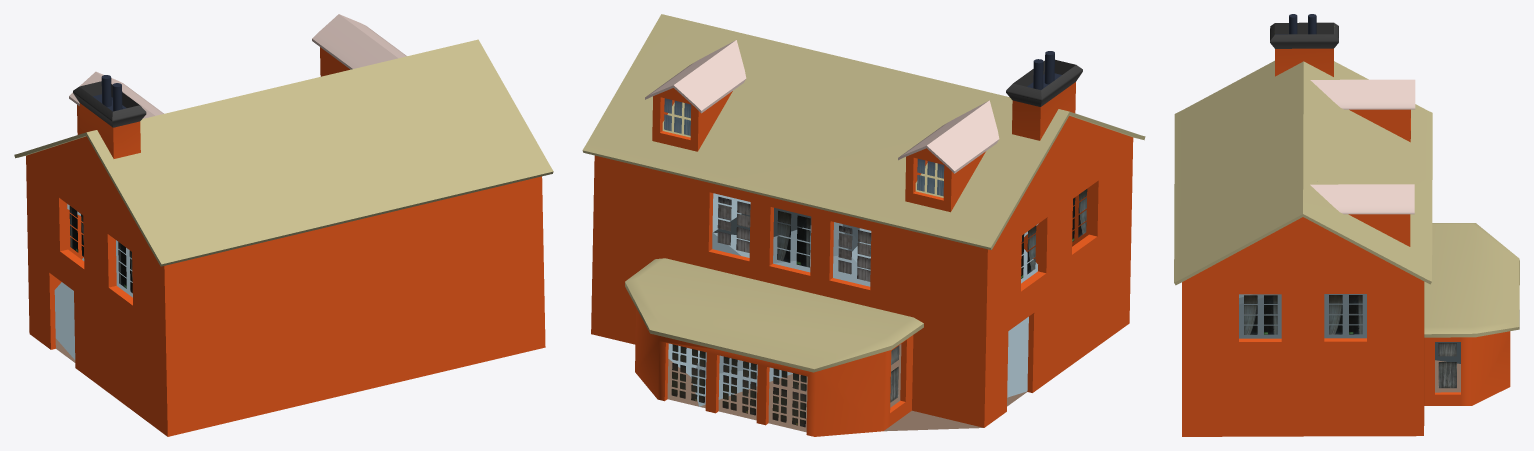
File: HouseCRoot.fbx
3 renders of one model, left to right at view 1: azimuth 30°, elevation 25°; view 2: azimuth 150°, elevation 25°; view 3: azimuth 270°, elevation 25°, orthographic. The views are drawn at different scales.
Parts seen in each view (by area): view 1: Body_sh_2, Body_sh_5, Body_sh_6, Body_sh_1, Body_sh_3, Body_sh_7, Body_sh_13, Body_sh_15, Body_sh_4, Body_sh_14; view 2: Body_sh_5, Body_sh_8, Body_sh_3, Body_sh_4, Body_sh_10, Body_sh_7, Body_sh_9, Body_sh_1, Body_sh_14, Body_sh_13, Body_sh_15, Body_sh_2 (+1 smaller); view 3: Body_sh_1, Body_sh_2, Body_sh_8, Body_sh_6, Body_sh_7, Body_sh_3, Body_sh_10, Body_sh_14, Body_sh_13, Body_sh_15, Body_sh_4, Body_sh_9.
Boxes of the visible parts, box(x1,y1,x2,y2) form: Body_sh_2: box(284, 39, 553, 348); Body_sh_5: box(26, 194, 286, 436); Body_sh_6: box(155, 77, 325, 340); Body_sh_1: box(424, 207, 545, 375); Body_sh_3: box(14, 110, 177, 263); Body_sh_7: box(278, 302, 427, 410); Body_sh_13: box(312, 14, 406, 76); Body_sh_15: box(73, 81, 146, 158); Body_sh_4: box(29, 319, 294, 425); Body_sh_14: box(69, 71, 163, 134); Body_sh_5: box(849, 147, 1132, 411); Body_sh_8: box(582, 47, 907, 231); Body_sh_3: box(850, 89, 1140, 281); Body_sh_4: box(691, 254, 1027, 436); Body_sh_10: box(631, 280, 833, 380); Body_sh_7: box(625, 193, 870, 406); Body_sh_9: box(713, 177, 867, 273); Body_sh_1: box(591, 166, 640, 344); Body_sh_14: box(898, 100, 999, 212); Body_sh_13: box(645, 44, 746, 151); Body_sh_15: box(1006, 59, 1082, 140); Body_sh_2: box(642, 14, 825, 54); Body_sh_1: box(1182, 270, 1424, 436); Body_sh_2: box(1174, 145, 1341, 312); Body_sh_8: box(1305, 121, 1432, 294); Body_sh_6: box(1174, 84, 1335, 184); Body_sh_7: box(1424, 291, 1510, 405); Body_sh_3: box(1186, 60, 1432, 163); Body_sh_10: box(1430, 249, 1519, 352); Body_sh_14: box(1310, 79, 1415, 142); Body_sh_13: box(1319, 184, 1414, 246); Body_sh_15: box(1270, 22, 1338, 76); Body_sh_4: box(1424, 225, 1508, 363); Body_sh_9: box(1402, 162, 1432, 215).
Size of the model in its own units: 994 by 736 by 867.
